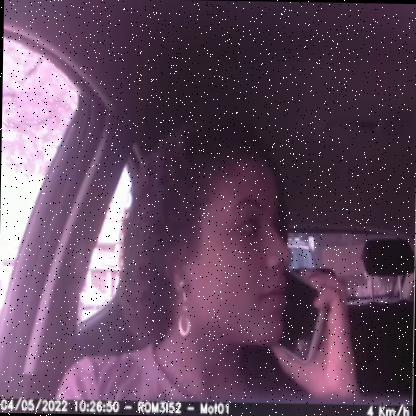phone: (274, 266, 330, 366)
